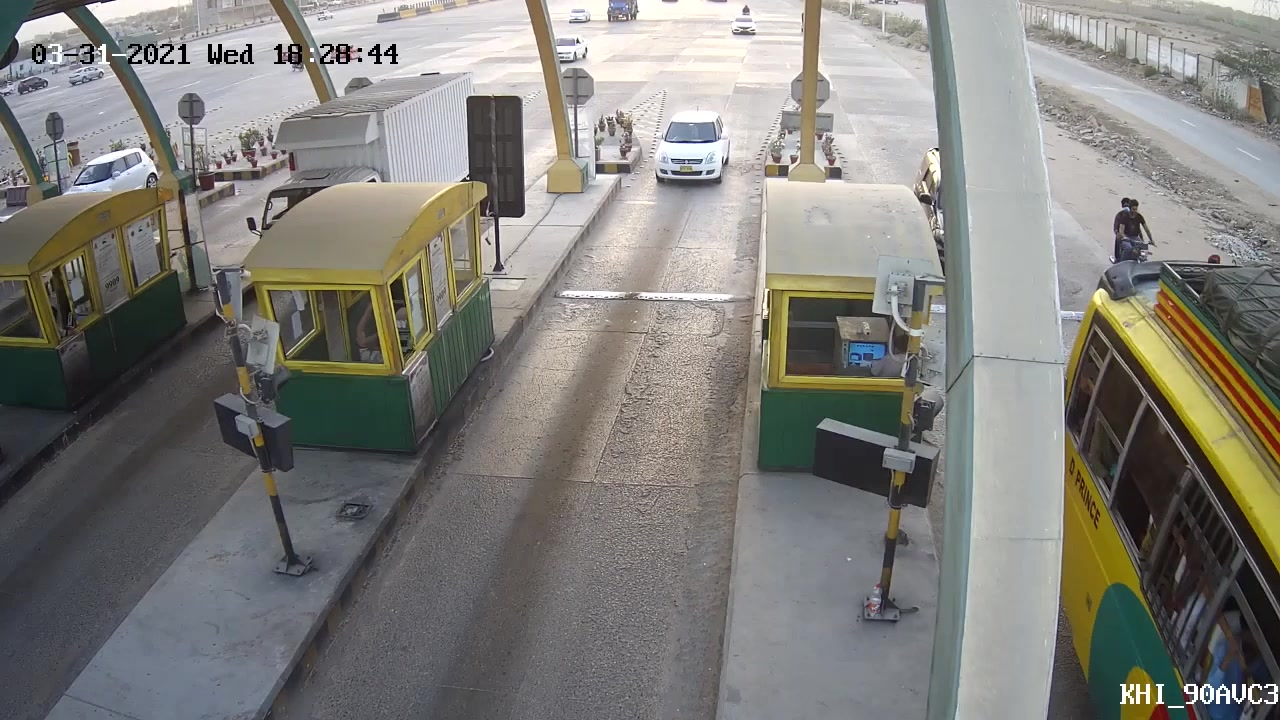F1: (643, 108, 738, 191)
